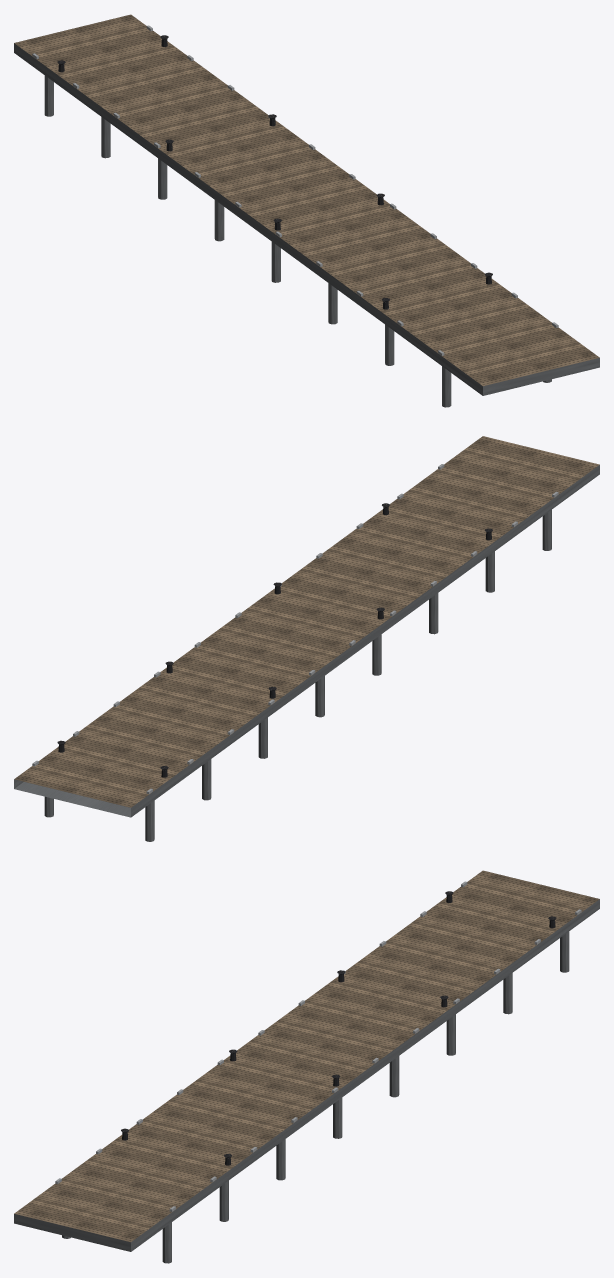
Rendered from SM_Morin_Marina_PontileLargo.fbx.
3 views of the same model, one above another, from view 1: azimuth 30°, elevation 25°; view 2: azimuth 150°, elevation 25°; view 3: azimuth 330°, elevation 25° (orthographic).
Visible parts, largest first — view 1: SM_Morin_Marina_PontileLargo; view 2: SM_Morin_Marina_PontileLargo; view 3: SM_Morin_Marina_PontileLargo.
Boxes of the visible parts, x1,y1,x2,y2 form: SM_Morin_Marina_PontileLargo: [14, 14, 599, 407]; SM_Morin_Marina_PontileLargo: [14, 436, 599, 841]; SM_Morin_Marina_PontileLargo: [14, 870, 599, 1263].
Size of what is drawn, in the model's own units: 500 by 3470 by 258.
Materials: 2 (2 with a texture image).
